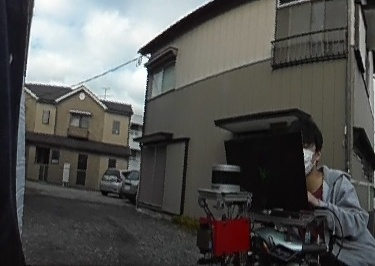person: (277, 111, 374, 266)
